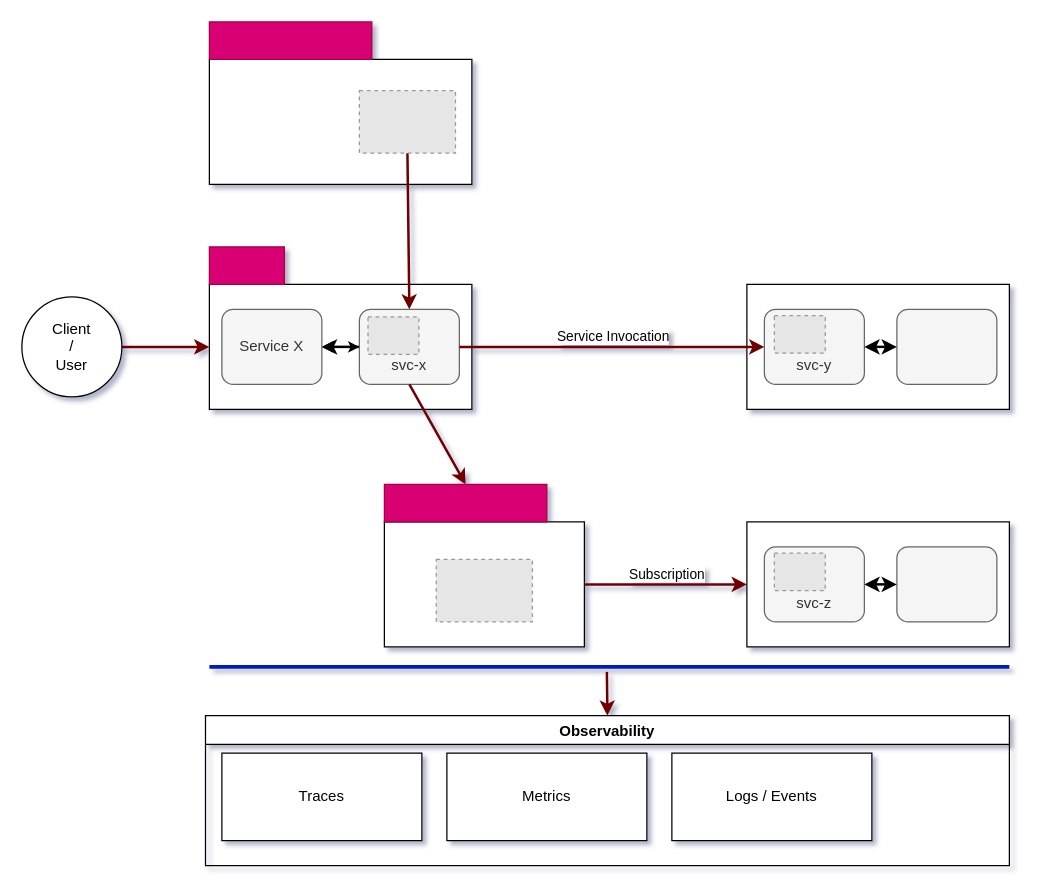
Some shapes in this 1041 by 895 pixel diagram are drawn without their labels. Grey dashed boxes stand in for pictures. The shapes that lost their labels are listed below. From the top down, each one's centre as x and y in pixels, then its label:
At point 290,40: "Components: Bindings".
At point 246,265: "Pod".
At point 946,346: "Service Y".
At point 465,502: "Components: Pub/Sub".
At point 946,584: "Service Z".
